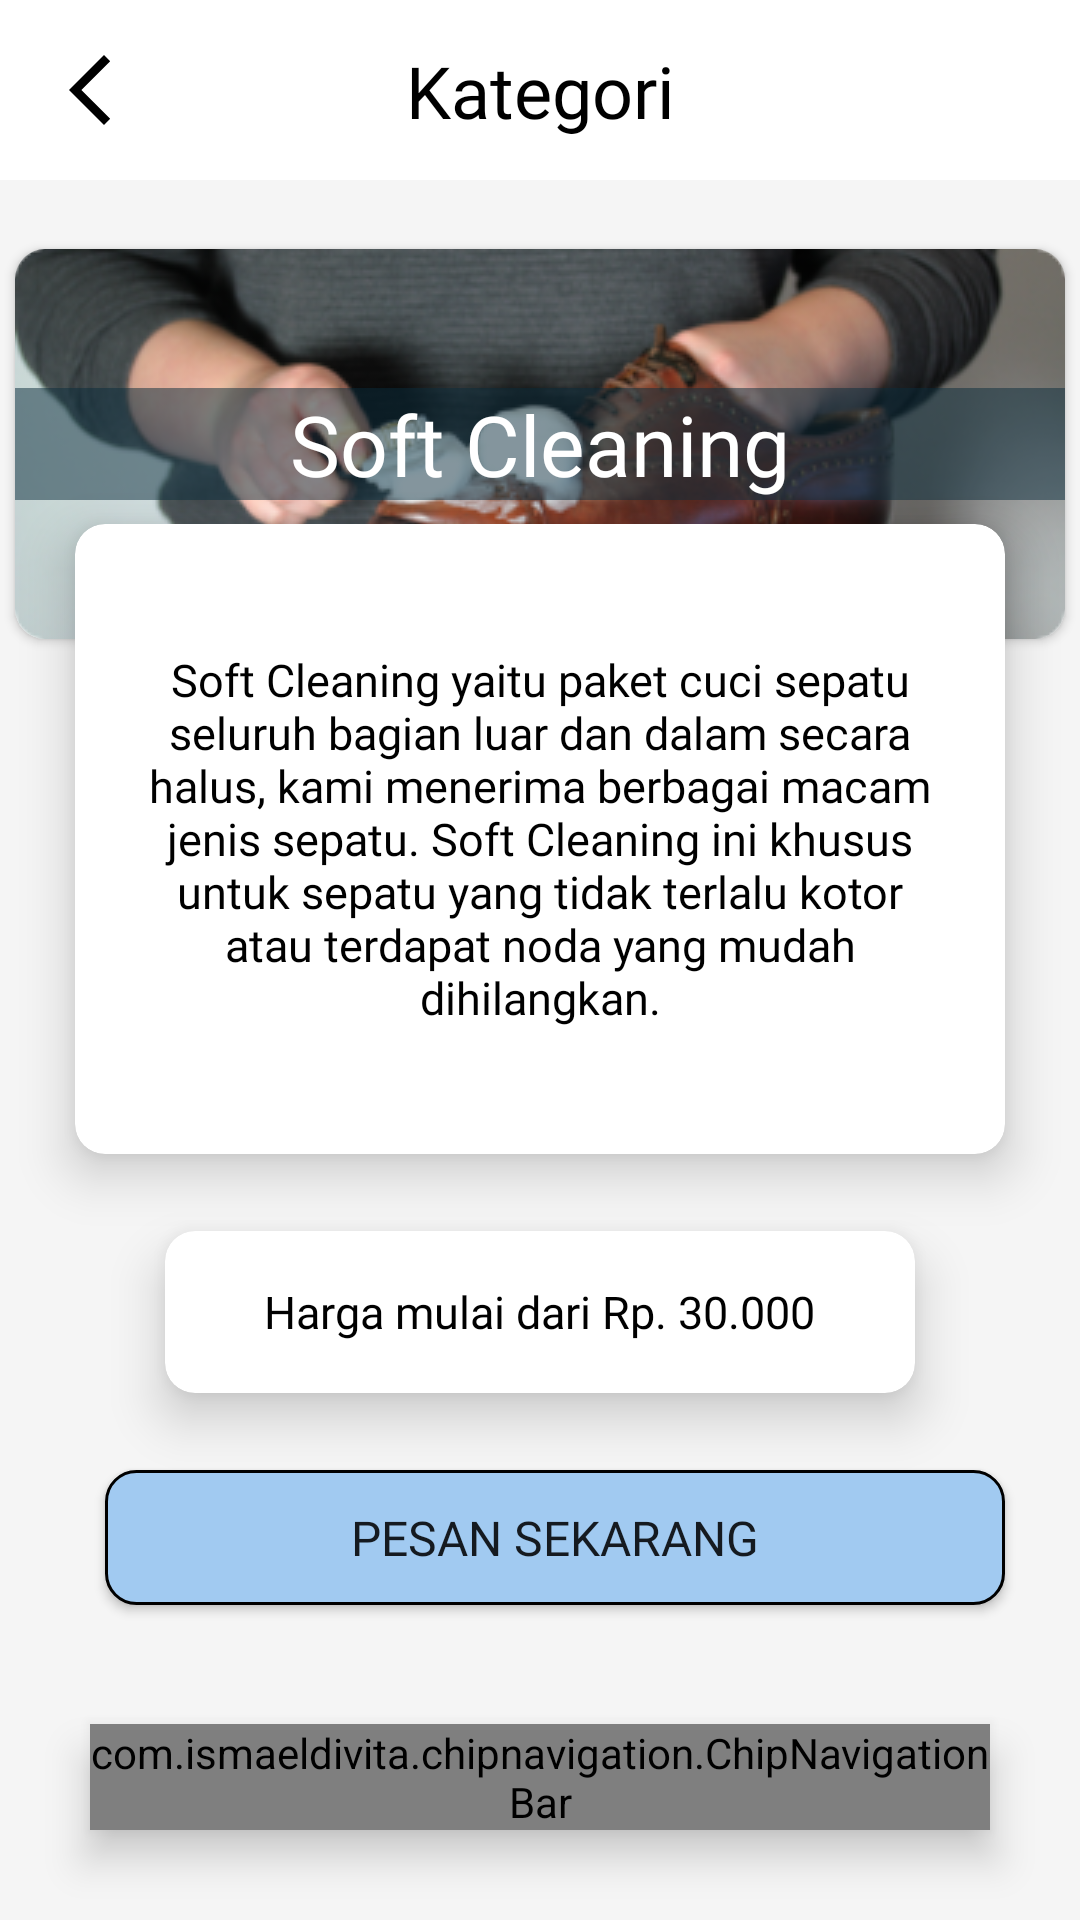

Icons on this 1080w x 1920h Android screen, each with the point to tap as (x=x, y=y):
back: (x=89, y=90)
